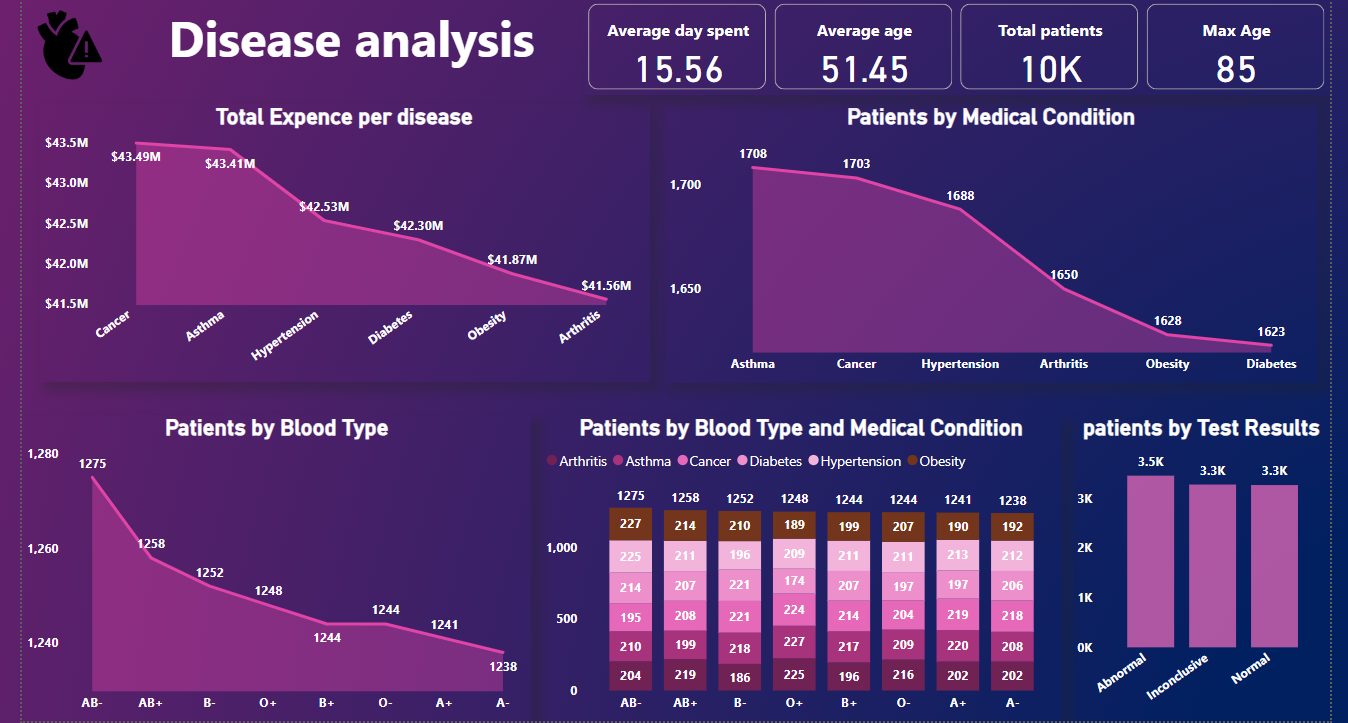

The page's visual inventory and layout, read from the dashboard file:
{"tool":"powerbi","page":{"name":"disease analysis","canvas":[1280,720],"ordinal":1},"visuals":[{"type":"areaChart","title":"Total Expence per disease","fields":{"Category":["healthcare_dataset.Medical Condition"],"Y":["Sum(healthcare_dataset.Billing Amount)"]},"box":[17.4,116.3,596.5,272.1],"z":0},{"type":"columnChart","title":"patients by Test Results","fields":{"Category":["healthcare_dataset.Test Results"],"Y":["CountNonNull(healthcare_dataset.ID)"]},"box":[1026.8,420.5,253,299.5],"z":1000},{"type":"areaChart","title":"Patients by Blood Type","fields":{"Category":["healthcare_dataset.Blood Type"],"Y":["CountNonNull(healthcare_dataset.ID)"]},"box":[0,420.5,498.7,299.5],"z":2000},{"type":"areaChart","title":"Patients by Medical Condition","fields":{"Category":["healthcare_dataset.Medical Condition"],"Y":["CountNonNull(healthcare_dataset.ID)"]},"box":[628.3,116.1,639.3,272.6],"z":3000},{"type":"cardVisual","fields":{"Data":["healthcare_dataset.Average day spent","healthcare_dataset.Average age","healthcare_dataset.Total patients","healthcare_dataset.Max Age"]},"box":[548.9,13.4,731,94.1],"z":4000},{"type":"columnChart","title":"Patients by Blood Type and Medical Condition","fields":{"Category":["healthcare_dataset.Blood Type"],"Y":["CountNonNull(healthcare_dataset.ID)"],"Series":["healthcare_dataset.Medical Condition"]},"box":[507.3,420.5,509.7,299.5],"z":5000},{"type":"textbox","box":[138.1,13.4,394.8,112.5],"z":6000},{"type":"image","box":[0,13.4,92.9,90.5],"z":7000}]}

Visuals, with their boxes on the page's 1280x720 design canvas (x1, y1, x2, y2). These are canvas units, not pixel positions in the 1348x723 screenshot, which may show the page scaled, cropped or inside an application window:
"Total Expence per disease" areaChart: bbox=[17, 116, 614, 388]
"patients by Test Results" columnChart: bbox=[1027, 420, 1280, 720]
"Patients by Blood Type" areaChart: bbox=[0, 420, 499, 720]
"Patients by Medical Condition" areaChart: bbox=[628, 116, 1268, 389]
cardVisual - healthcare_dataset.Average day spent x healthcare_dataset.Average age: bbox=[549, 13, 1280, 108]
"Patients by Blood Type and Medical Condition" columnChart: bbox=[507, 420, 1017, 720]
textbox: bbox=[138, 13, 533, 126]
image: bbox=[0, 13, 93, 104]
